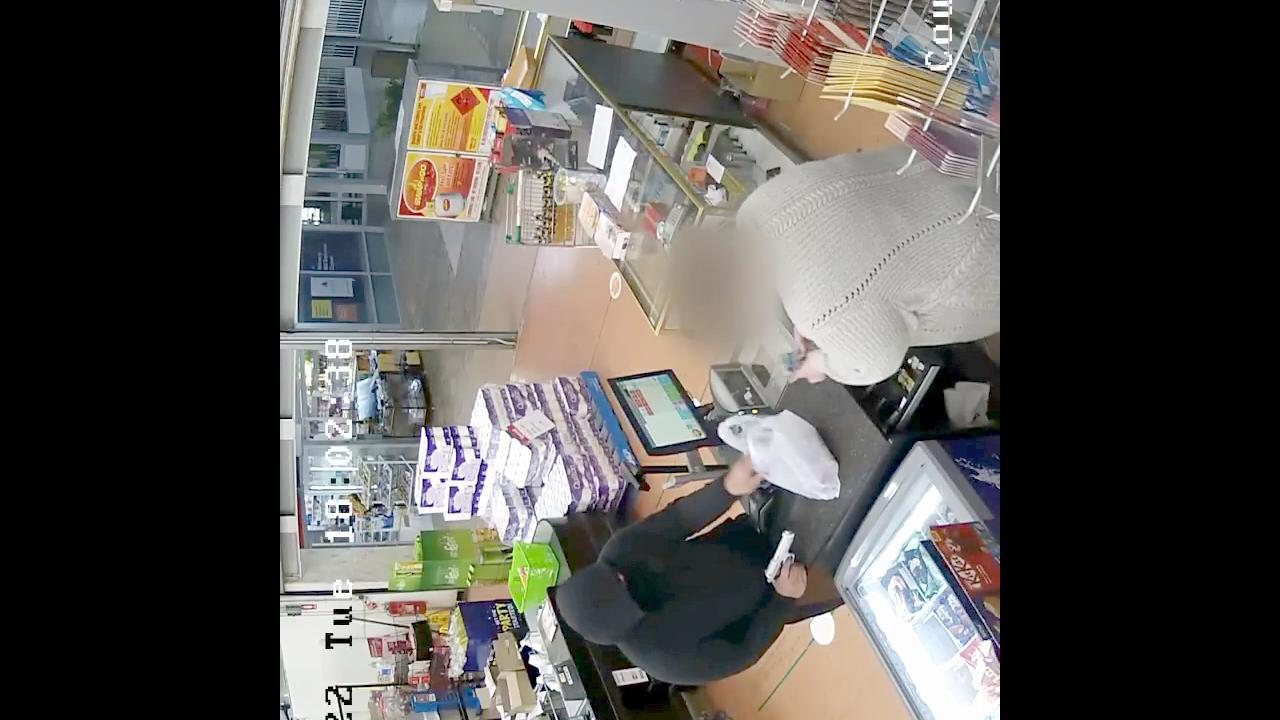gun: (754, 526, 806, 590)
